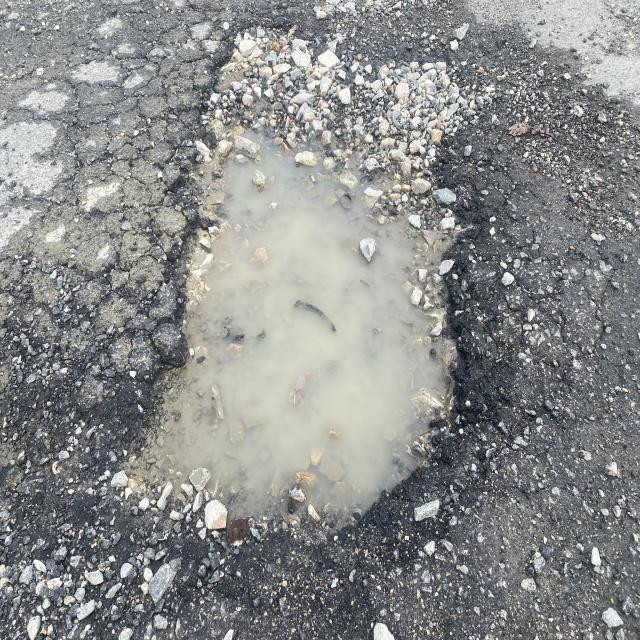pothole: (94, 9, 489, 545)
